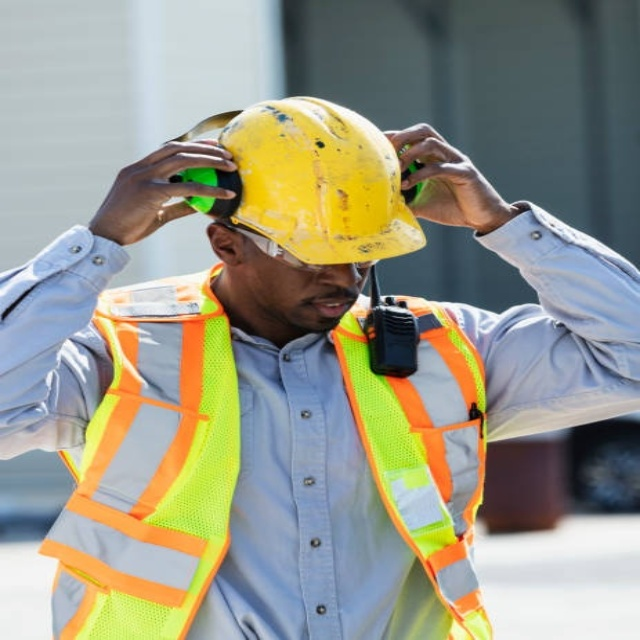Gafas: (224, 223, 383, 274)
Sin_guantes: (92, 138, 244, 247), (383, 123, 511, 232)
Sin_mascara: (293, 295, 357, 327)
